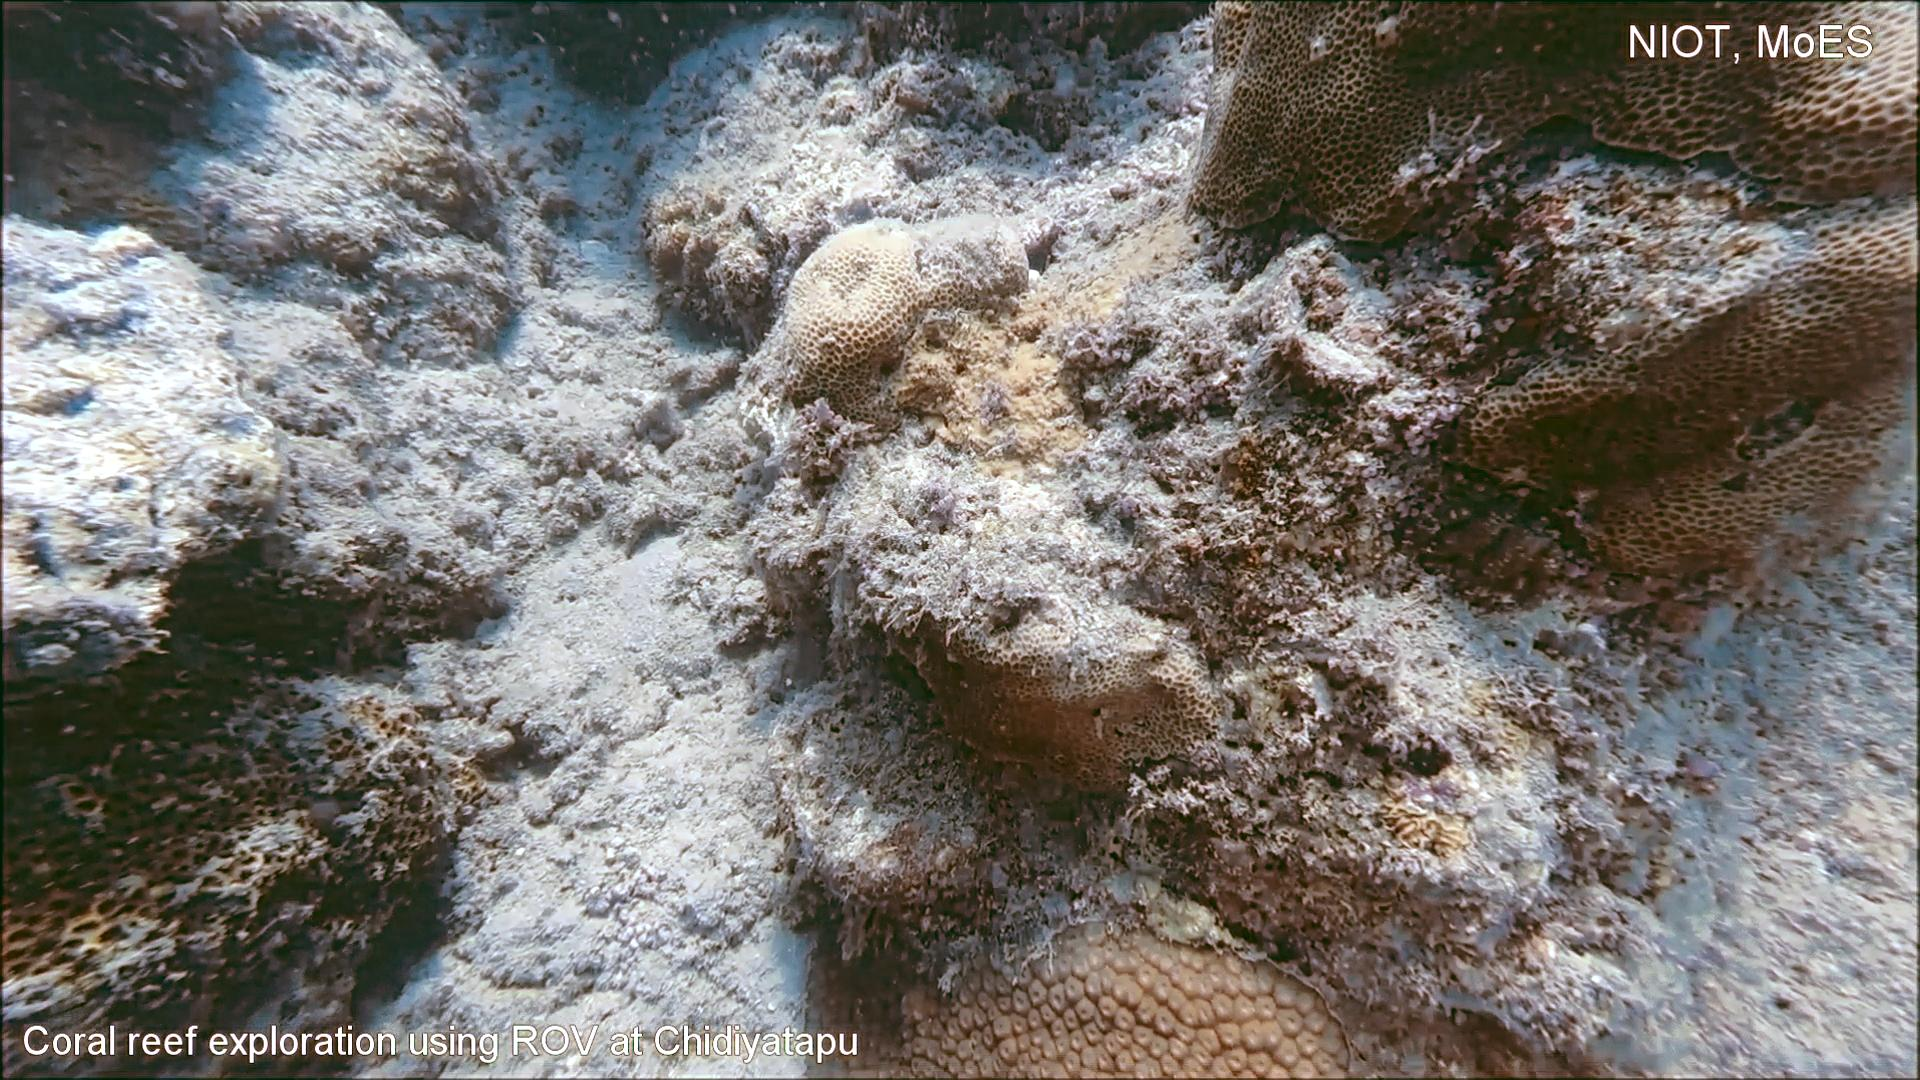Montastraea: (794, 905, 1364, 1080)
